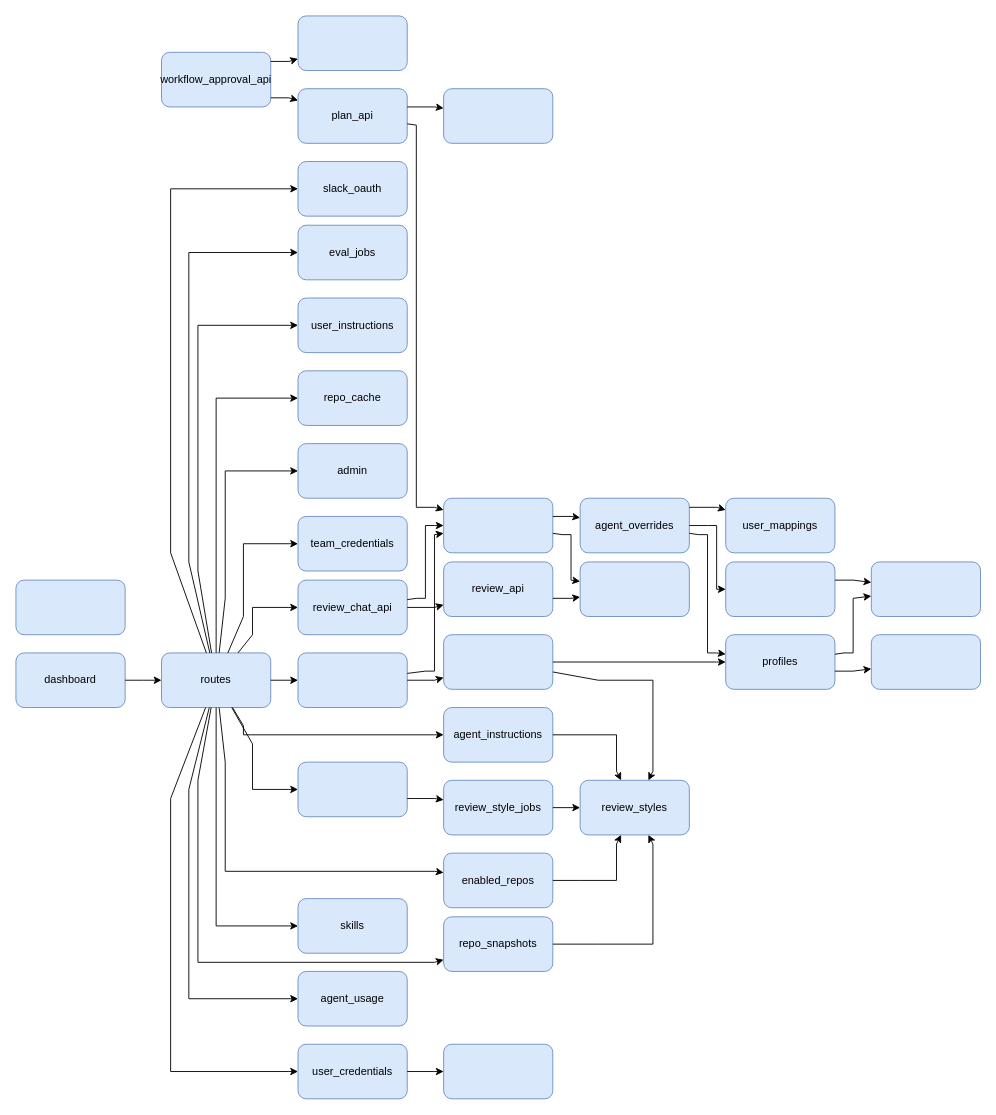
The diagram is 996 pixels wide and 1115 high, and some of its shapes have lost their labels. Each missing label, with the box of its shape:
analyzer_cron: (297, 761, 407, 817)
autofix_state: (15, 579, 125, 635)
notion_oauth: (443, 1043, 553, 1099)
oauth: (870, 634, 981, 689)
options: (870, 561, 981, 617)
plan_store: (443, 88, 553, 143)
pr_diff: (579, 561, 689, 617)
repo_access: (443, 634, 553, 689)
schedules: (297, 652, 407, 708)
team_settings: (725, 561, 835, 617)
thread_api: (443, 497, 553, 553)
workflow_approval: (297, 15, 407, 71)
